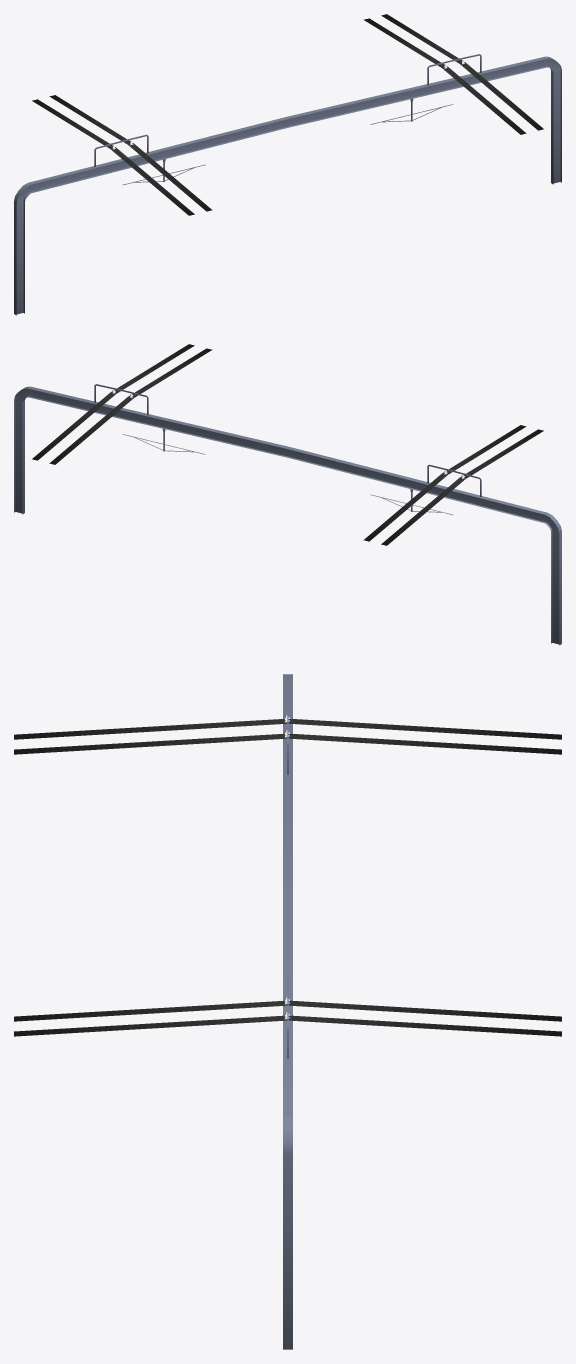
File: KASENCHU_4RAIL_KONKURI.glb
3 views of the same model, one above another, from view 1: azimuth 30°, elevation 25°; view 2: azimuth 150°, elevation 25°; view 3: azimuth 270°, elevation 25° (orthographic). The views are drawn at different scales.
Parts seen in each view (by area): view 1: FRAME_ROOT; view 2: FRAME_ROOT; view 3: FRAME_ROOT.
Part boxes in pixels (bbox=[...]): FRAME_ROOT: bbox=[14, 14, 561, 315]; FRAME_ROOT: bbox=[14, 344, 561, 645]; FRAME_ROOT: bbox=[14, 674, 561, 1349].
Bounding box in the file's own units: 79.25 × 20.57 × 39.61.
3 materials, 2 textured.
